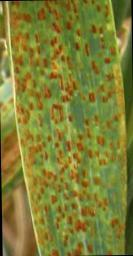Wheat: (15, 7, 108, 65), (41, 183, 115, 252), (23, 69, 117, 122), (27, 128, 118, 175)
